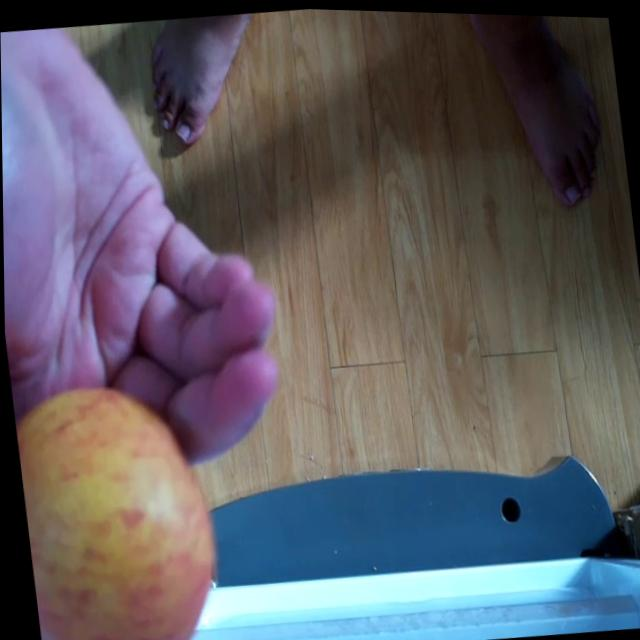apple: (10, 375, 221, 640)
